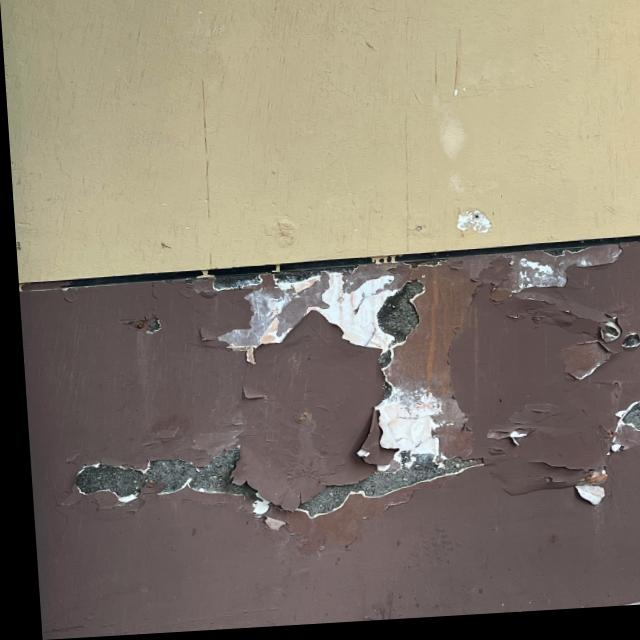spalling: (51, 251, 640, 553)
